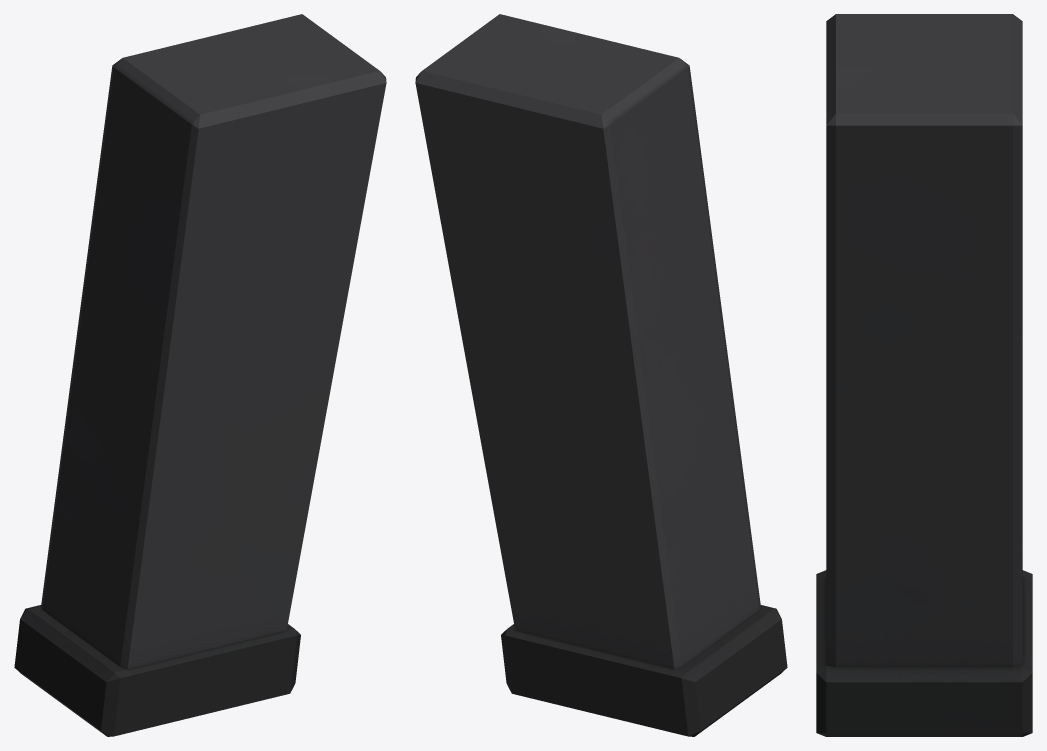
The model's file is AT_G19Mag.fbx.
3 views of the same model, side by side, from view 1: azimuth 30°, elevation 25°; view 2: azimuth 150°, elevation 25°; view 3: azimuth 270°, elevation 25° (orthographic). The views are drawn at different scales.
Visible parts, largest first — view 1: AT_G19Mag; view 2: AT_G19Mag; view 3: AT_G19Mag.
Part boxes in pixels (x1,y1,x2,y2): AT_G19Mag: [14, 14, 386, 736]; AT_G19Mag: [415, 14, 787, 736]; AT_G19Mag: [816, 14, 1032, 736].
Size of the model in its own units: 0.0387 by 0.076 by 0.022.
1 material, 1 textured.
